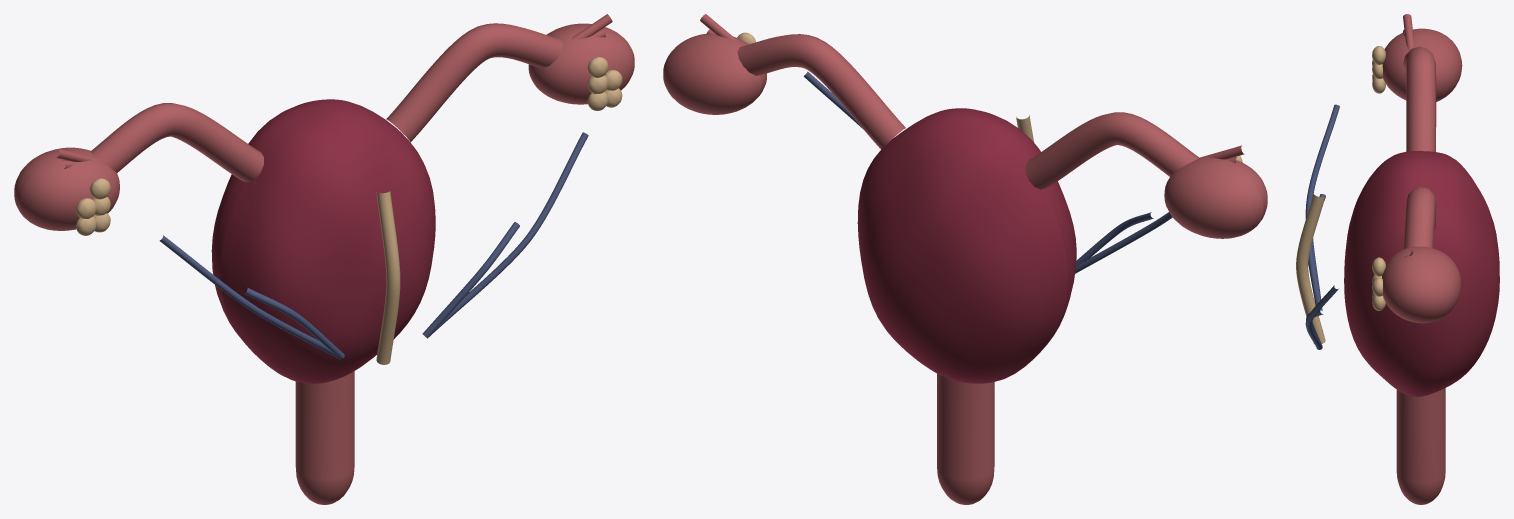
File: female-reproductive.1cd74f8d.glb
3 views of the same model, side by side, from view 1: azimuth 30°, elevation 25°; view 2: azimuth 150°, elevation 25°; view 3: azimuth 270°, elevation 25° (orthographic). The views are drawn at different scales.
Visible parts, largest first — view 1: procedural-female-reproductive-surface-1, procedural-female-reproductive-surface-2, procedural-female-reproductive-surface-4, procedural-female-reproductive-surface-3, procedural-female-reproductive-surface-5, procedural-female-reproductive-surface-6, procedural-female-reproductive-surface-7, procedural-female-reproductive-surface-31, procedural-female-reproductive-surface-19, procedural-female-reproductive-surface-30, procedural-female-reproductive-surface-18; view 2: procedural-female-reproductive-surface-1, procedural-female-reproductive-surface-2, procedural-female-reproductive-surface-5, procedural-female-reproductive-surface-4, procedural-female-reproductive-surface-6, procedural-female-reproductive-surface-3, procedural-female-reproductive-surface-19, procedural-female-reproductive-surface-18; view 3: procedural-female-reproductive-surface-1, procedural-female-reproductive-surface-2, procedural-female-reproductive-surface-6, procedural-female-reproductive-surface-3, procedural-female-reproductive-surface-5, procedural-female-reproductive-surface-4, procedural-female-reproductive-surface-7, procedural-female-reproductive-surface-19, procedural-female-reproductive-surface-31, procedural-female-reproductive-surface-18, procedural-female-reproductive-surface-12.
Part boxes in pixels (box(x1,y1,x2,y2)): procedural-female-reproductive-surface-1: box(211, 99, 435, 383); procedural-female-reproductive-surface-2: box(295, 371, 354, 504); procedural-female-reproductive-surface-4: box(386, 23, 562, 142); procedural-female-reproductive-surface-3: box(90, 103, 263, 182); procedural-female-reproductive-surface-5: box(14, 147, 119, 230); procedural-female-reproductive-surface-6: box(528, 23, 634, 104); procedural-female-reproductive-surface-7: box(376, 191, 400, 364); procedural-female-reproductive-surface-31: box(429, 132, 588, 336); procedural-female-reproductive-surface-19: box(159, 235, 340, 359); procedural-female-reproductive-surface-30: box(422, 222, 519, 338); procedural-female-reproductive-surface-18: box(244, 287, 344, 359); procedural-female-reproductive-surface-1: box(857, 108, 1076, 383); procedural-female-reproductive-surface-2: box(937, 373, 994, 504); procedural-female-reproductive-surface-5: box(1164, 157, 1267, 238); procedural-female-reproductive-surface-4: box(737, 34, 905, 149); procedural-female-reproductive-surface-6: box(663, 33, 766, 114); procedural-female-reproductive-surface-3: box(1025, 112, 1199, 189); procedural-female-reproductive-surface-19: box(1075, 212, 1172, 273); procedural-female-reproductive-surface-18: box(1076, 212, 1153, 266); procedural-female-reproductive-surface-1: box(1344, 151, 1499, 396); procedural-female-reproductive-surface-2: box(1396, 388, 1445, 504); procedural-female-reproductive-surface-6: box(1382, 246, 1461, 323); procedural-female-reproductive-surface-3: box(1403, 46, 1436, 151); procedural-female-reproductive-surface-5: box(1382, 28, 1462, 101); procedural-female-reproductive-surface-4: box(1403, 187, 1436, 248); procedural-female-reproductive-surface-7: box(1296, 194, 1325, 344); procedural-female-reproductive-surface-19: box(1305, 104, 1339, 299); procedural-female-reproductive-surface-31: box(1305, 285, 1338, 349); procedural-female-reproductive-surface-18: box(1308, 194, 1325, 310); procedural-female-reproductive-surface-12: box(1403, 14, 1413, 51).
Bounding box in the file's own units: 3.5 × 2.4 × 1.16.
